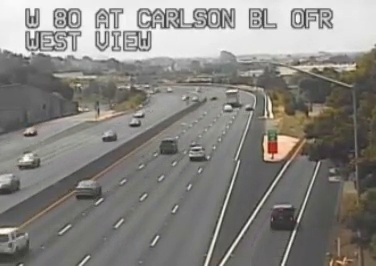car: (1, 226, 29, 256), (270, 205, 294, 228), (75, 180, 100, 198), (159, 139, 177, 154), (188, 146, 203, 158)
